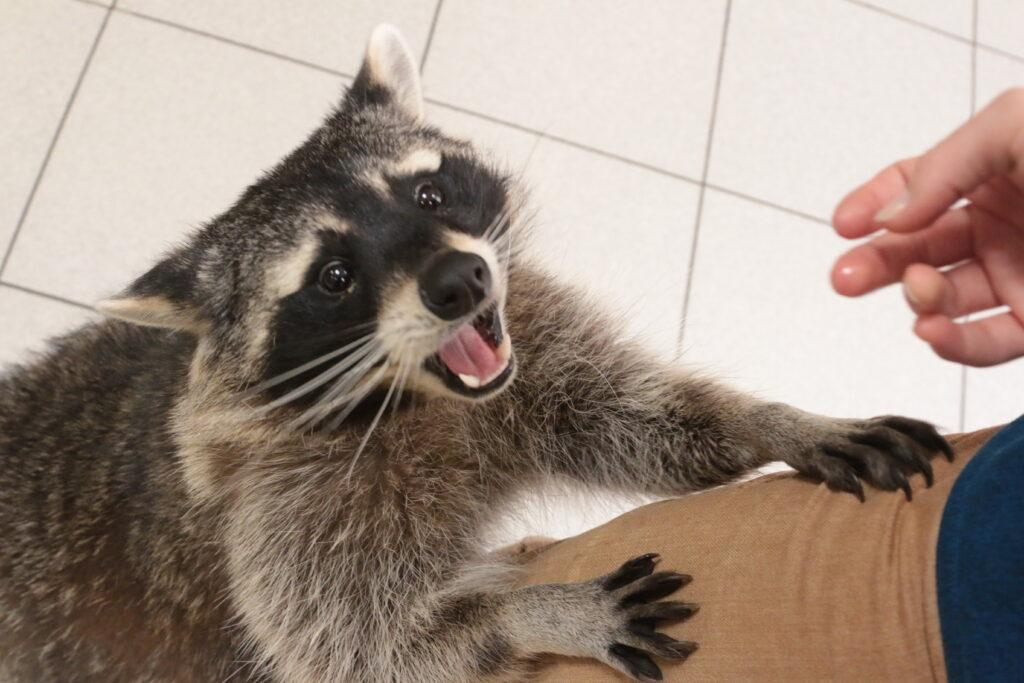raccoon: (1, 19, 956, 683)
